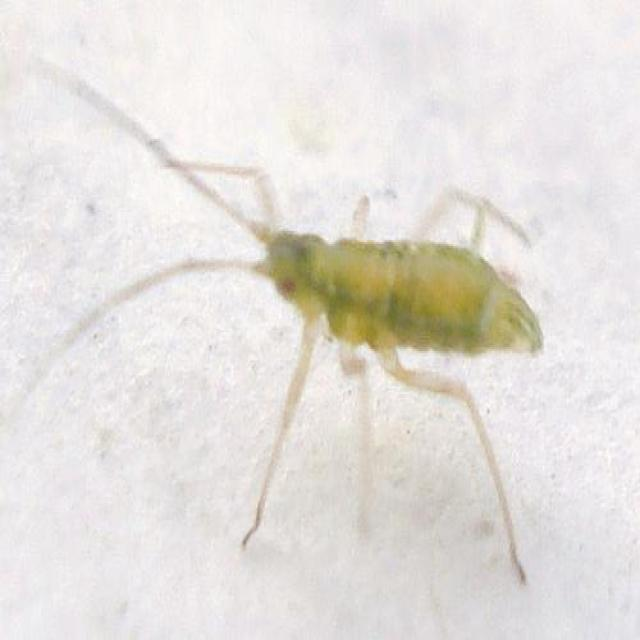Aphids: (60, 69, 566, 595)
